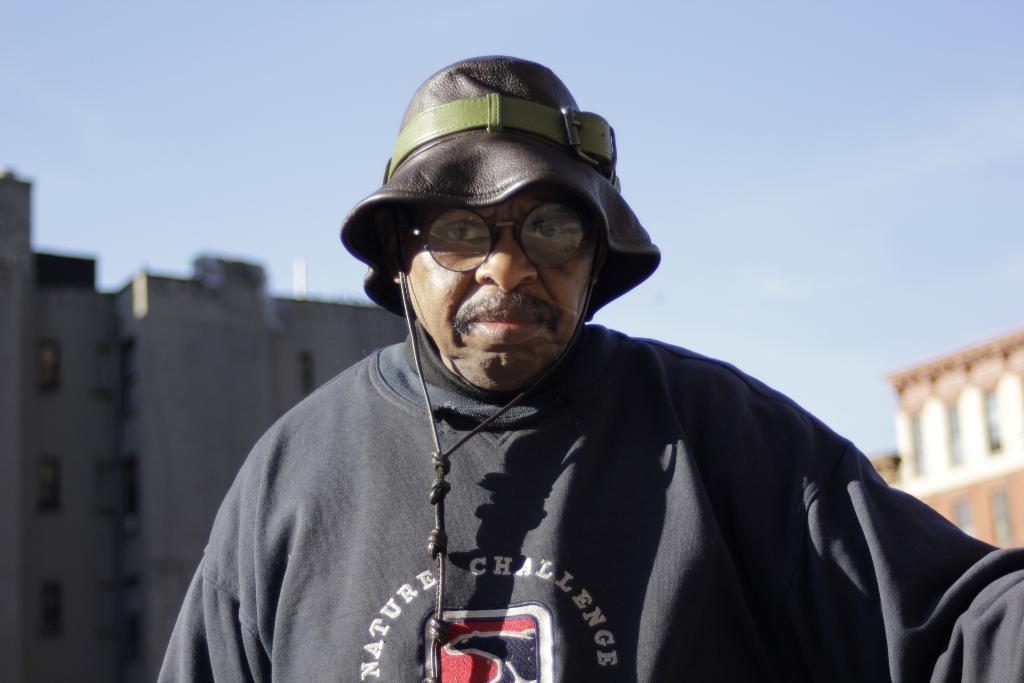Hat: (336, 53, 660, 681)
